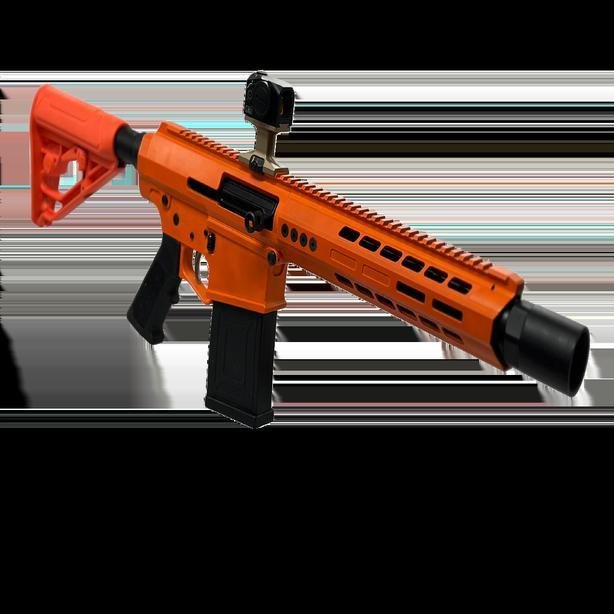Firearm: (17, 67, 598, 460)
